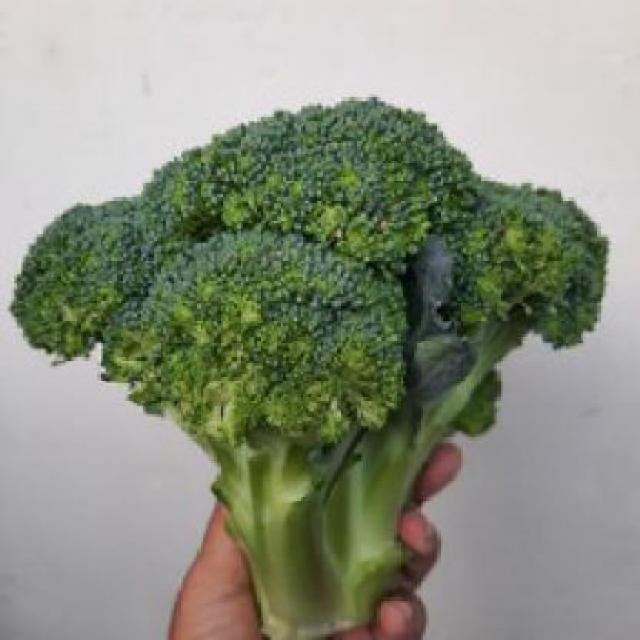broccoli: (46, 140, 603, 626)
